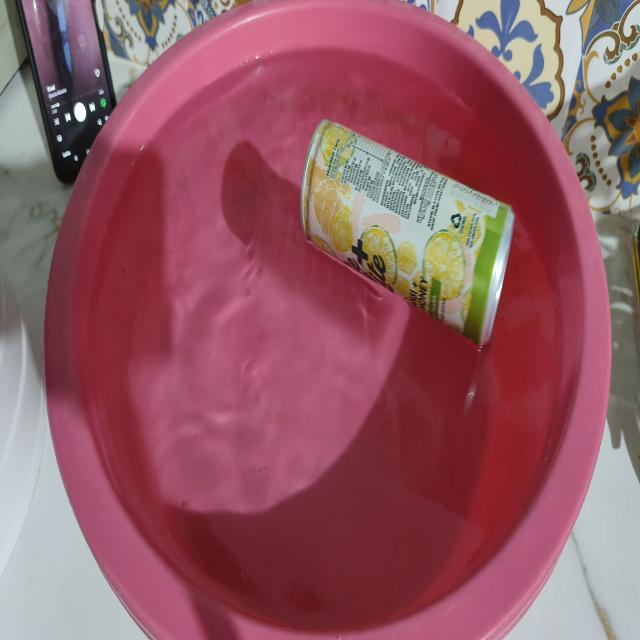Aluminum Can: (301, 120, 515, 346)
